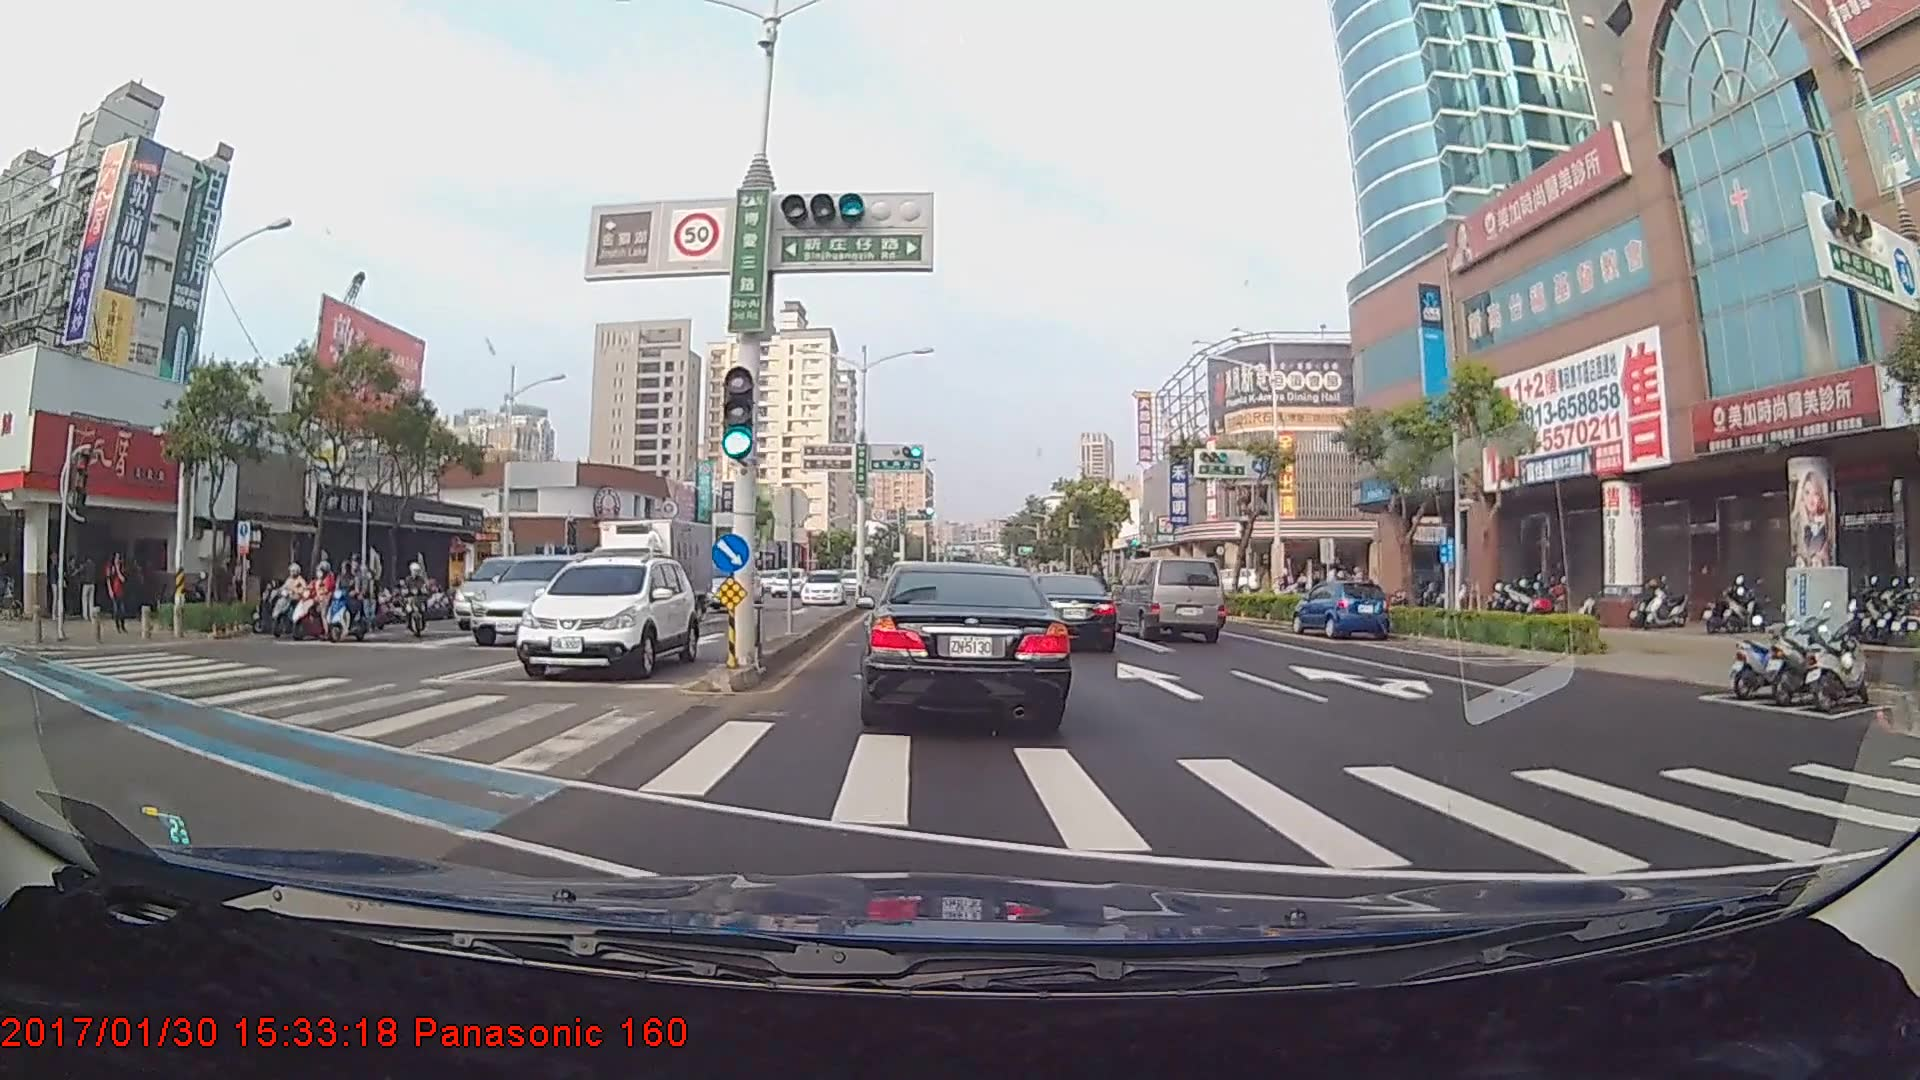pedestrian: (109, 551, 133, 638), (49, 554, 73, 629), (78, 554, 102, 625)
rider: (319, 561, 388, 652), (280, 564, 349, 646), (251, 560, 318, 637)
vehicle: (859, 557, 1069, 731), (519, 552, 698, 679), (572, 512, 712, 641), (471, 553, 600, 644), (1118, 555, 1226, 642), (1016, 579, 1117, 661), (1293, 576, 1388, 638), (701, 560, 765, 611), (799, 575, 842, 607), (771, 572, 801, 602)
